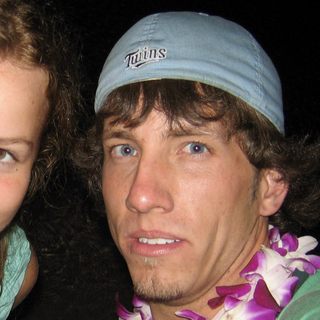eye: (174, 138, 219, 162), (107, 139, 145, 164)
